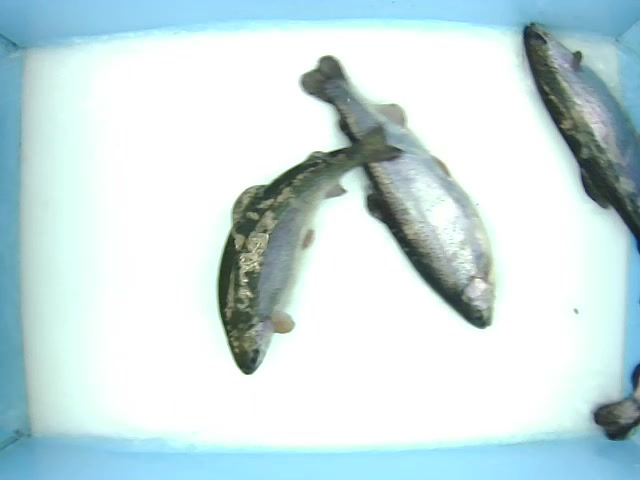fish: (315, 61, 497, 346), (194, 134, 393, 366)
